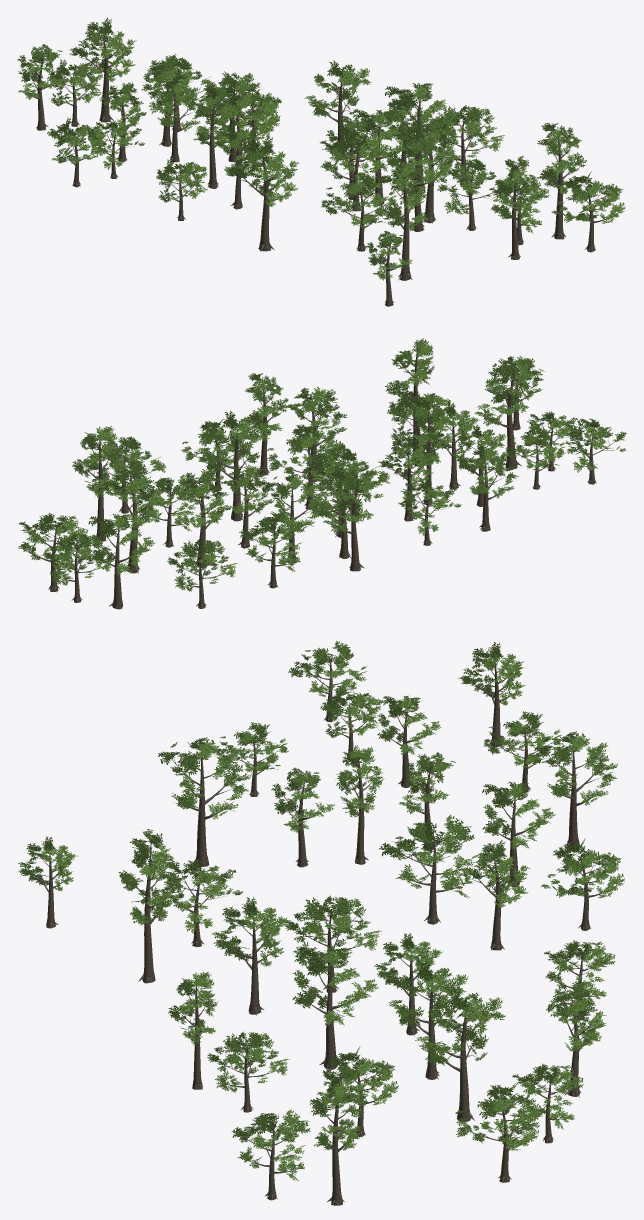
File: Canopy_12_16.glb
3 renders of one model, top to bottom at view 1: azimuth 30°, elevation 25°; view 2: azimuth 150°, elevation 25°; view 3: azimuth 270°, elevation 25°, orthographic. The views are drawn at different scales.
Parts seen in each view (by area): view 1: Canopy_12_16; view 2: Canopy_12_16; view 3: Canopy_12_16.
Part boxes in pixels (x1,y1,x2,y2): Canopy_12_16: [17, 17, 625, 306]; Canopy_12_16: [18, 338, 626, 609]; Canopy_12_16: [18, 641, 624, 1205].
Bounding box in the file's own units: 106 × 46.59 × 86.8.
Materials: 2 (2 with a texture image).
